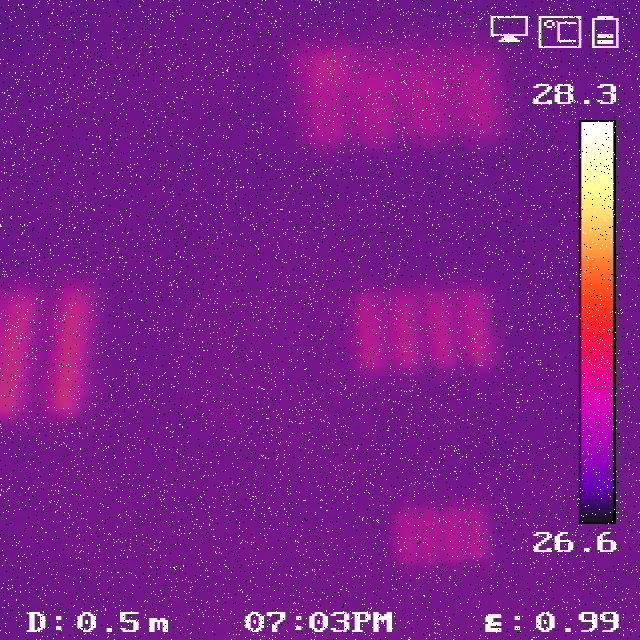Distinguishable 4-bar target: (0, 279, 104, 417)
threshold 4-bar target: (300, 28, 512, 149), (348, 281, 497, 377), (389, 498, 494, 566)
